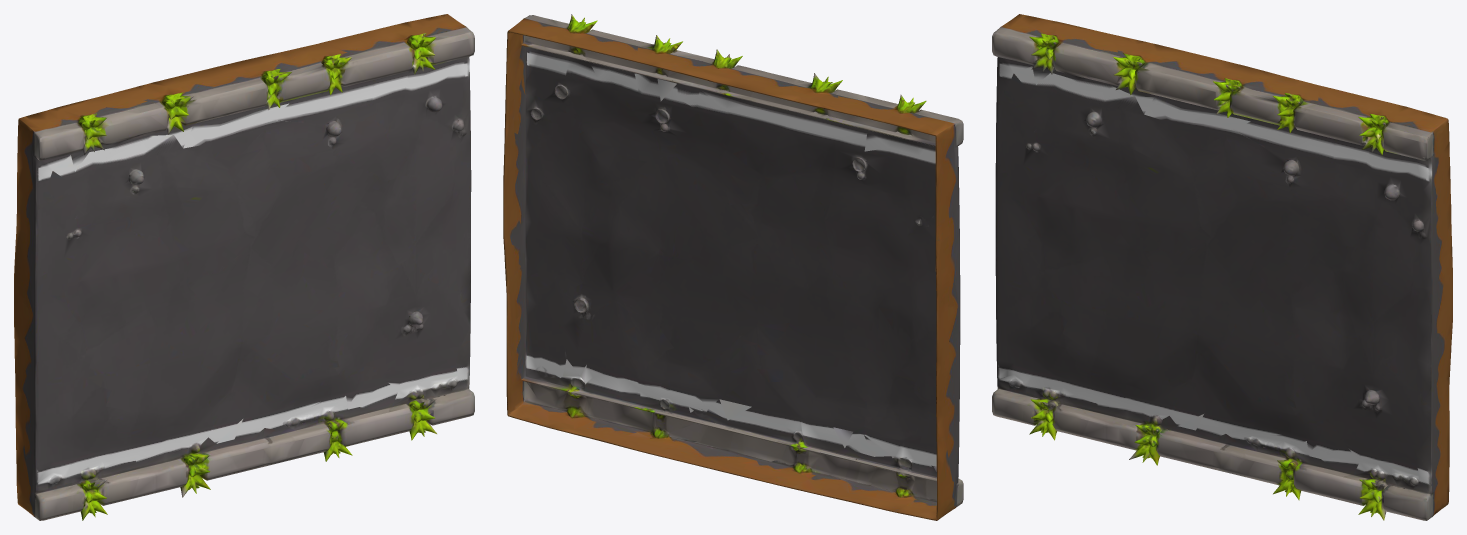
File: asfalt.glb
3 renders of one model, left to right at view 1: azimuth 30°, elevation 25°; view 2: azimuth 150°, elevation 25°; view 3: azimuth 330°, elevation 25°, orthographic.
Parts seen in each view (by area): view 1: asfalt; view 2: asfalt; view 3: asfalt.
Part boxes in pixels (x1,y1,x2,y2): asfalt: (14, 14, 474, 520); asfalt: (503, 14, 963, 520); asfalt: (992, 14, 1452, 520).
Bounding box in the file's own units: 9.75 × 8.55 × 1.2.
Materials: 1 (1 with a texture image).
